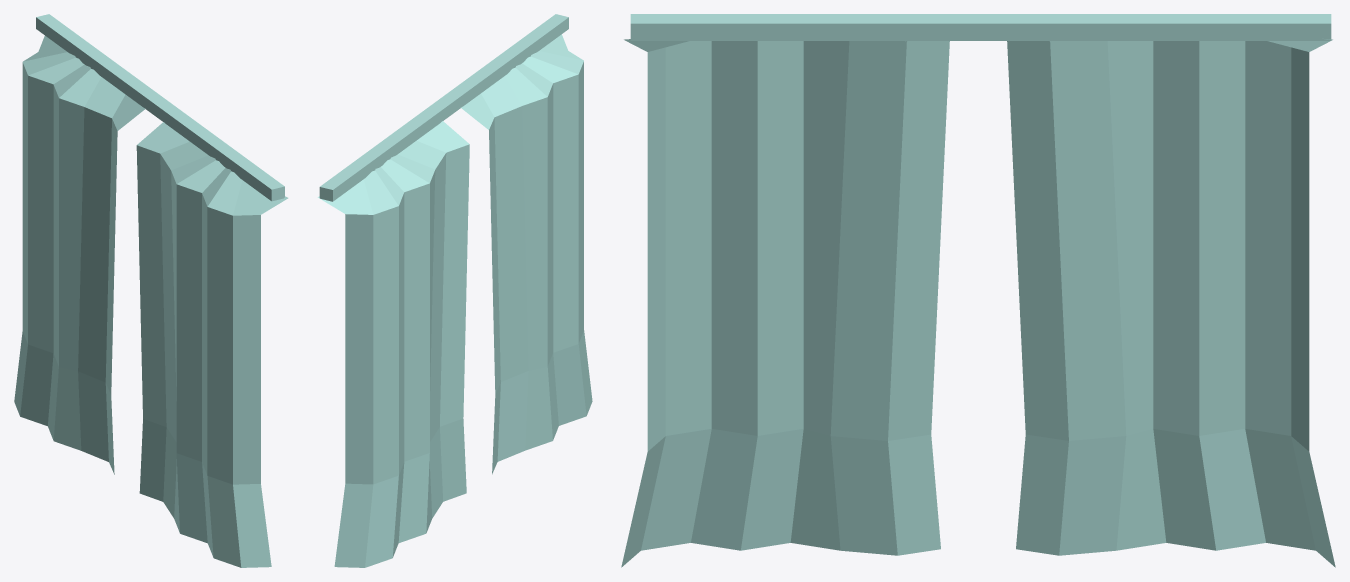
File: curtain.fbx
3 renders of one model, left to right at view 1: azimuth 30°, elevation 25°; view 2: azimuth 150°, elevation 25°; view 3: azimuth 270°, elevation 25°, orthographic. The views are drawn at different scales.
Parts seen in each view (by area): view 1: curtain; view 2: curtain; view 3: curtain.
Boxes of the visible parts, left/top/right/bottom form: curtain: left=14, top=14, right=288, bottom=567; curtain: left=317, top=14, right=592, bottom=567; curtain: left=621, top=14, right=1335, bottom=567.
Size of the model in its own units: 73.85 by 504 by 587.
